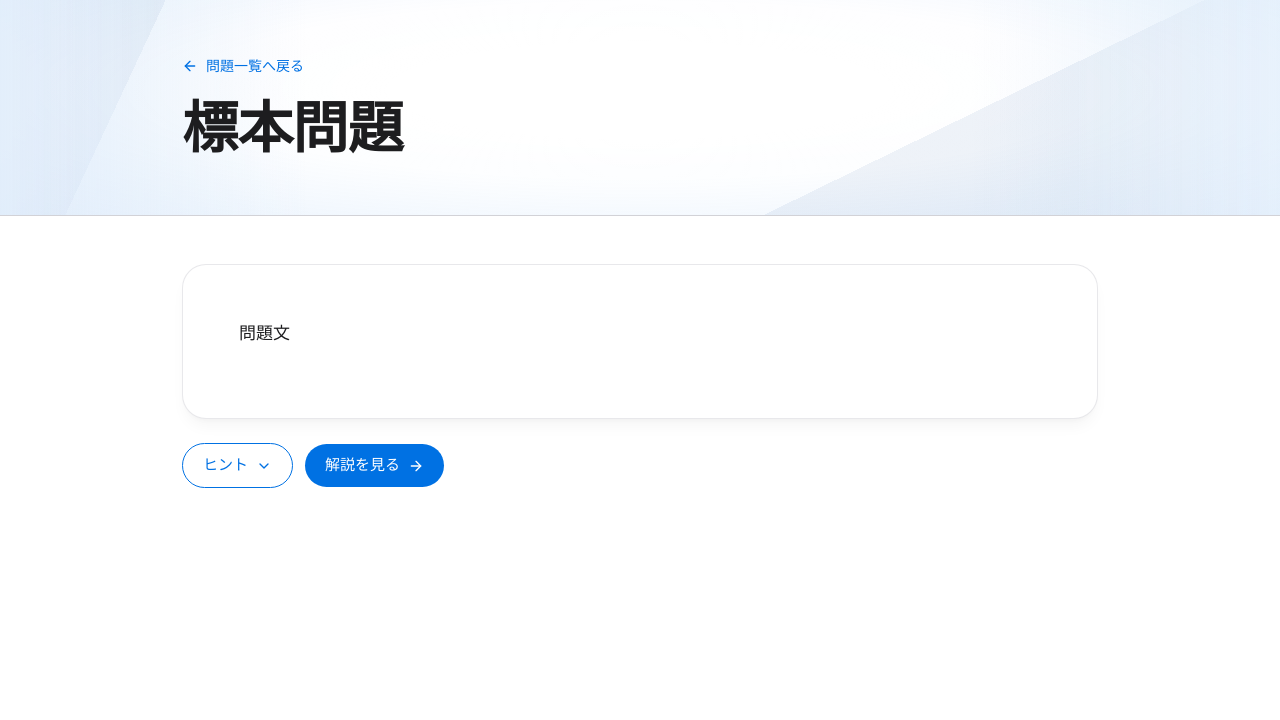
it: WeeklyMathDetail hint › reveals and hides a saved hint from a secondary action beside the solution link
expect the text "ここが公開ヒントです。" is not shown: met
What coordinates should you click on to do the following:
click the 1st button named "ヒント"
I would click on:
 (238, 466)
Its box is [182, 443, 293, 488].
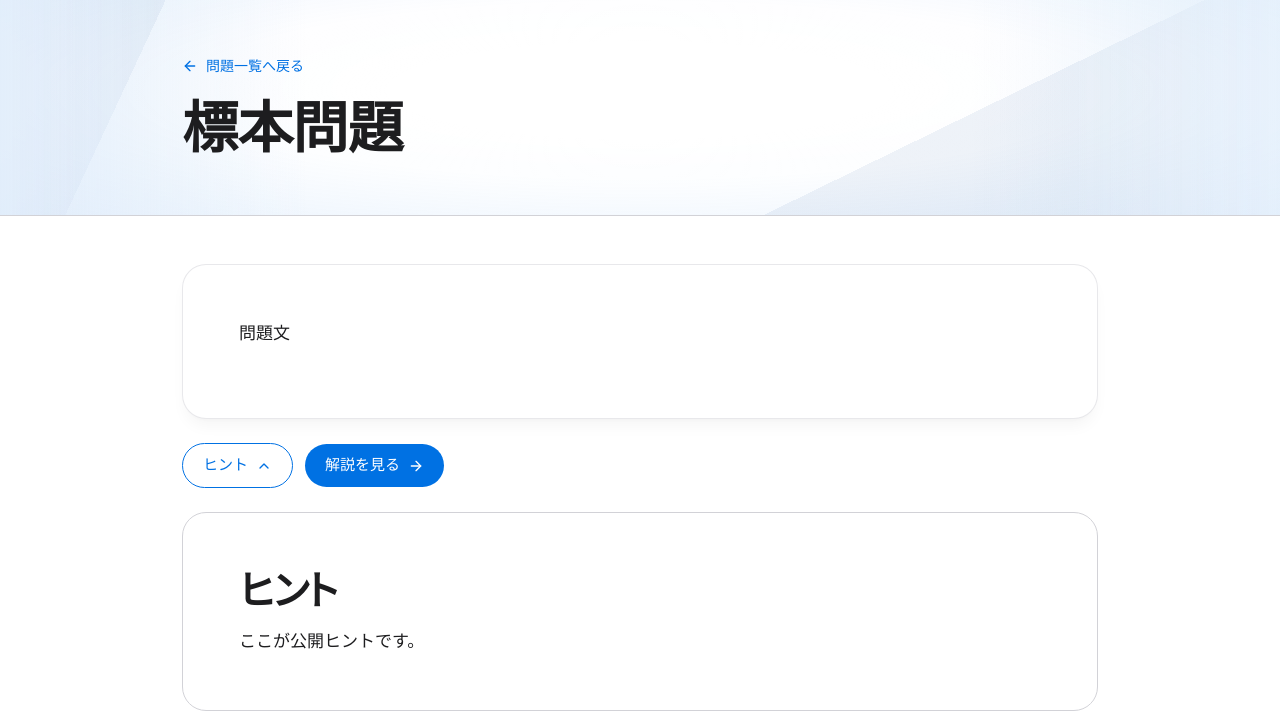
expect the 2nd text "ここが公開ヒントです。" is shown: met, box [239, 631, 424, 651]
expect the 1st button named "ヒント" is expanded: met
expect the 2nd heading named "ヒント" is shown: met, box [239, 566, 336, 615]
What coordinates should you click on to do the following:
click the 1st button named "ヒント"
I would click on:
 (238, 466)
Its box is [182, 443, 293, 488].
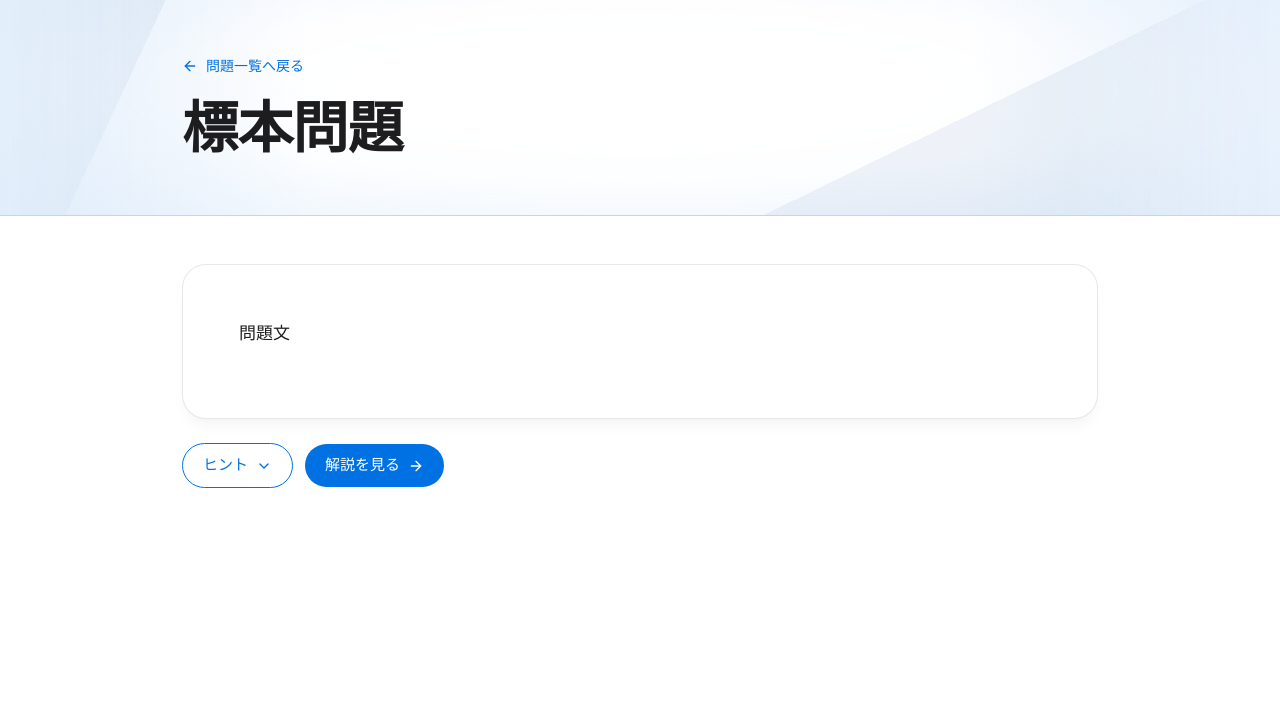
expect the text "ここが公開ヒントです。" is not shown: met
expect the 1st button named "ヒント" is collapsed: met, box [182, 443, 293, 488]
